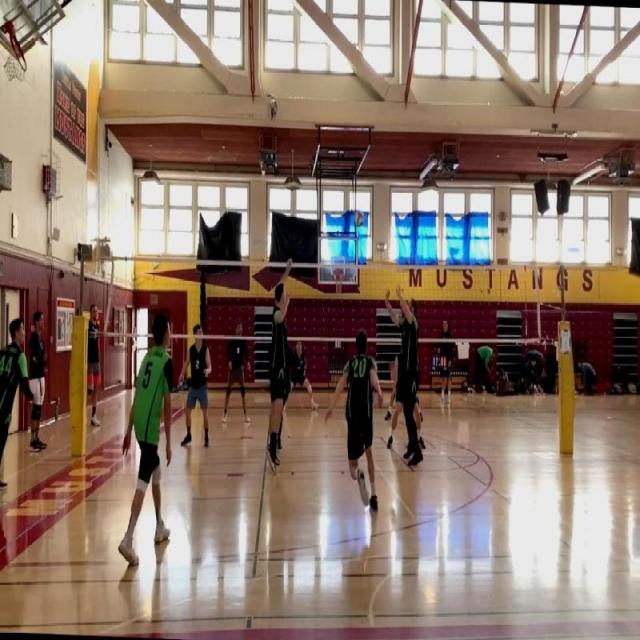volleyball: (354, 212, 364, 227)
